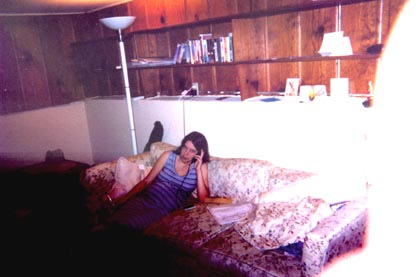person: (106, 132, 213, 229)
